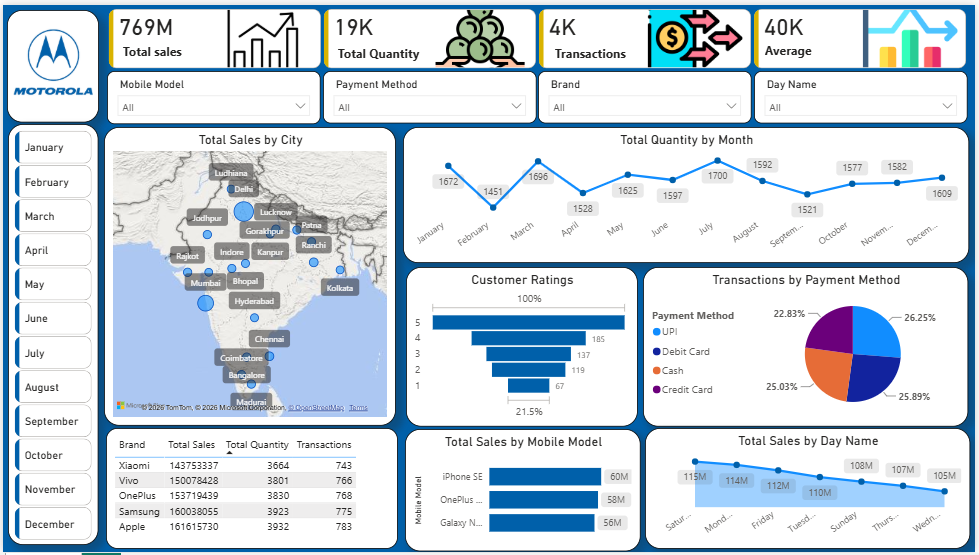

What the dashboard file says about the page in this screenshot:
{"tool":"powerbi","page":{"name":"Page 1","canvas":[1280,720],"ordinal":0},"visuals":[{"type":"shape","box":[5.5,6.9,120.8,148.2],"z":0},{"type":"image","box":[9.6,16.5,113.9,116.6],"z":1000},{"type":"shape","box":[6.9,156.4,119.4,554.4],"z":2000},{"type":"advancedSlicerVisual","fields":{"Values":["Sales_Data.Date.Variation.Date Hierarchy.Month"]},"box":[11,160.5,111.1,548.9],"z":3000},{"type":"cardVisual","fields":{"Data":["Sales_Data.Total Sales","Sales_Data.Total Quantity","Sales_Data.Transactions","Sales_Data.Average"]},"box":[134,5.6,1140.1,83.7],"z":4000},{"type":"map","fields":{"Category":["Sales_Data.City"],"Size":["Sales_Data.Total Sales"]},"box":[132.9,160.8,384.1,393.1],"z":5000},{"type":"lineChart","fields":{"Category":["Sales_Data.Date.Variation.Date Hierarchy.Month","Sales_Data.Date.Variation.Date Hierarchy.Day"],"Y":["Sales_Data.Total Quantity"]},"box":[525.9,160.8,744.8,178.7],"z":6000},{"type":"clusteredBarChart","fields":{"Category":["Sales_Data.Mobile Model"],"Y":["Sales_Data.Total Sales"]},"box":[528.3,558.5,310.1,160.5],"z":7000},{"type":"pieChart","fields":{"Category":["Sales_Data.Payment Method"],"Y":["Sales_Data.Transactions"]},"box":[842.5,344.4,428.1,209.9],"z":8000},{"type":"funnel","title":"Customer Ratings","fields":{"Category":["Sales_Data.Customer Ratings"],"Y":["CountNonNull(Sales_Data.Customer Ratings)"]},"box":[529.7,344.4,304.6,209.9],"z":9000},{"type":"areaChart","fields":{"Category":["Sales_Data.Day Name"],"Y":["Sales_Data.Total Sales"]},"box":[845.3,557.1,428.1,159.2],"z":10000},{"type":"tableEx","fields":{"Values":["Sales_Data.Brand","Sales_Data.Total Sales","Sales_Data.Total Quantity","Sales_Data.Transactions"]},"box":[135.8,557.1,384.2,159.2],"z":11000},{"type":"slicer","fields":{"Values":["Sales_Data.Mobile Model"]},"box":[136.2,87.1,281.4,70.3],"z":12000},{"type":"slicer","fields":{"Values":["Sales_Data.Payment Method"]},"box":[421,87.1,281.4,69.2],"z":13000},{"type":"slicer","fields":{"Values":["Sales_Data.Brand"]},"box":[703.5,87.1,281.4,69.2],"z":14000},{"type":"slicer","fields":{"Values":["Sales_Data.Day Name"]},"box":[988.2,87.1,281.4,69.2],"z":15000},{"type":"textbox","box":[153.1,45.4,97.8,35.4],"z":16000},{"type":"textbox","box":[435.1,46.8,126.1,32.6],"z":17000},{"type":"textbox","box":[721.4,46.8,113.4,34],"z":17001},{"type":"textbox","box":[997.8,43.9,85,35.4],"z":17002}]}

Visuals, with their boxes in screenshot pixels (x1, y1, x2, y2), scaled from the page's 1280x720 canvas onto the 979x555 screenshot:
shape: pyautogui.locateOnScreen(4, 5, 97, 120)
image: pyautogui.locateOnScreen(7, 13, 94, 103)
shape: pyautogui.locateOnScreen(5, 121, 97, 548)
advancedSlicerVisual - Sales_Data.Date.Variation.Date Hierarchy.Month: pyautogui.locateOnScreen(8, 124, 93, 547)
cardVisual - Sales_Data.Total Sales x Sales_Data.Total Quantity: pyautogui.locateOnScreen(102, 4, 974, 69)
map - Sales_Data.City x Sales_Data.Total Sales: pyautogui.locateOnScreen(102, 124, 395, 427)
lineChart - Sales_Data.Date.Variation.Date Hierarchy.Month x Sales_Data.Date.Variation.Date Hierarchy.Day: pyautogui.locateOnScreen(402, 124, 972, 262)
clusteredBarChart - Sales_Data.Mobile Model x Sales_Data.Total Sales: pyautogui.locateOnScreen(404, 431, 641, 554)
pieChart - Sales_Data.Payment Method x Sales_Data.Transactions: pyautogui.locateOnScreen(644, 265, 972, 427)
"Customer Ratings" funnel: pyautogui.locateOnScreen(405, 265, 638, 427)
areaChart - Sales_Data.Day Name x Sales_Data.Total Sales: pyautogui.locateOnScreen(647, 429, 974, 552)
tableEx - Sales_Data.Brand x Sales_Data.Total Sales: pyautogui.locateOnScreen(104, 429, 398, 552)
slicer - Sales_Data.Mobile Model: pyautogui.locateOnScreen(104, 67, 319, 121)
slicer - Sales_Data.Payment Method: pyautogui.locateOnScreen(322, 67, 537, 120)
slicer - Sales_Data.Brand: pyautogui.locateOnScreen(538, 67, 753, 120)
slicer - Sales_Data.Day Name: pyautogui.locateOnScreen(756, 67, 971, 120)
textbox: pyautogui.locateOnScreen(117, 35, 192, 62)
textbox: pyautogui.locateOnScreen(333, 36, 429, 61)
textbox: pyautogui.locateOnScreen(552, 36, 638, 62)
textbox: pyautogui.locateOnScreen(763, 34, 828, 61)
